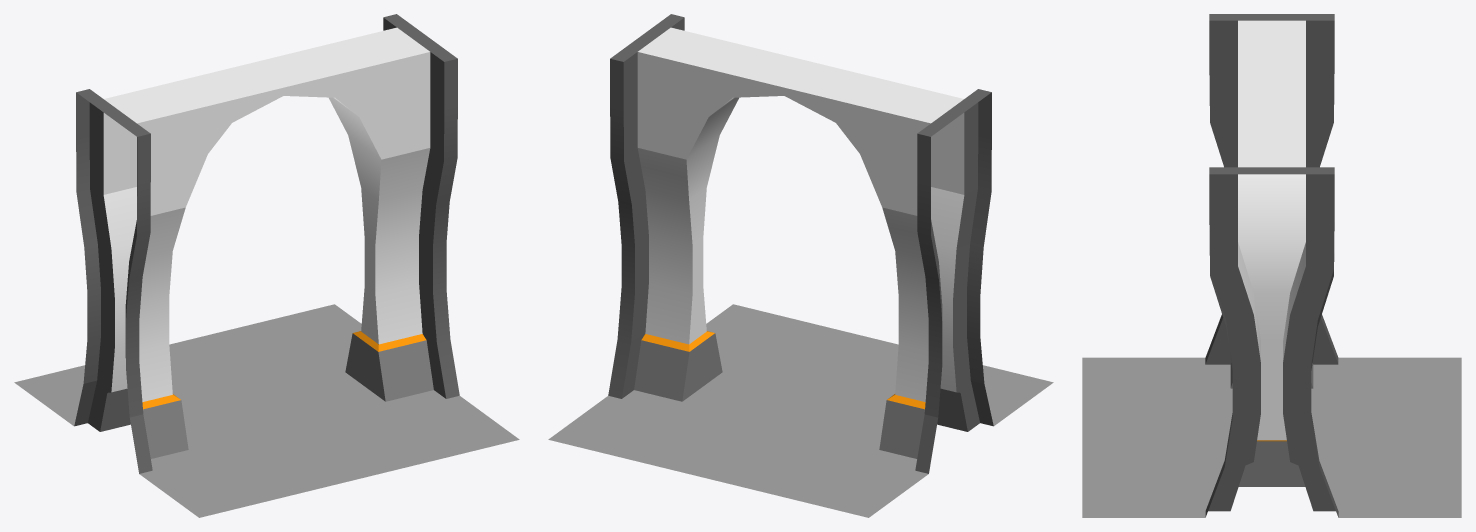
The model's file is SM_InteriorDoor_01.fbx.
The picture shows the model from 3 angles, left to right: view 1: azimuth 30°, elevation 25°; view 2: azimuth 150°, elevation 25°; view 3: azimuth 270°, elevation 25°; orthographic projection. The views are drawn at different scales.
Parts seen in each view (by area): view 1: SM_InteriorDoor_01; view 2: SM_InteriorDoor_01; view 3: SM_InteriorDoor_01.
Part boxes in pixels (<box>): SM_InteriorDoor_01: <box>14,14,519,517</box>; SM_InteriorDoor_01: <box>548,14,1053,517</box>; SM_InteriorDoor_01: <box>1082,14,1461,517</box>.
Bounding box in the file's own units: 200 × 200 × 200.
